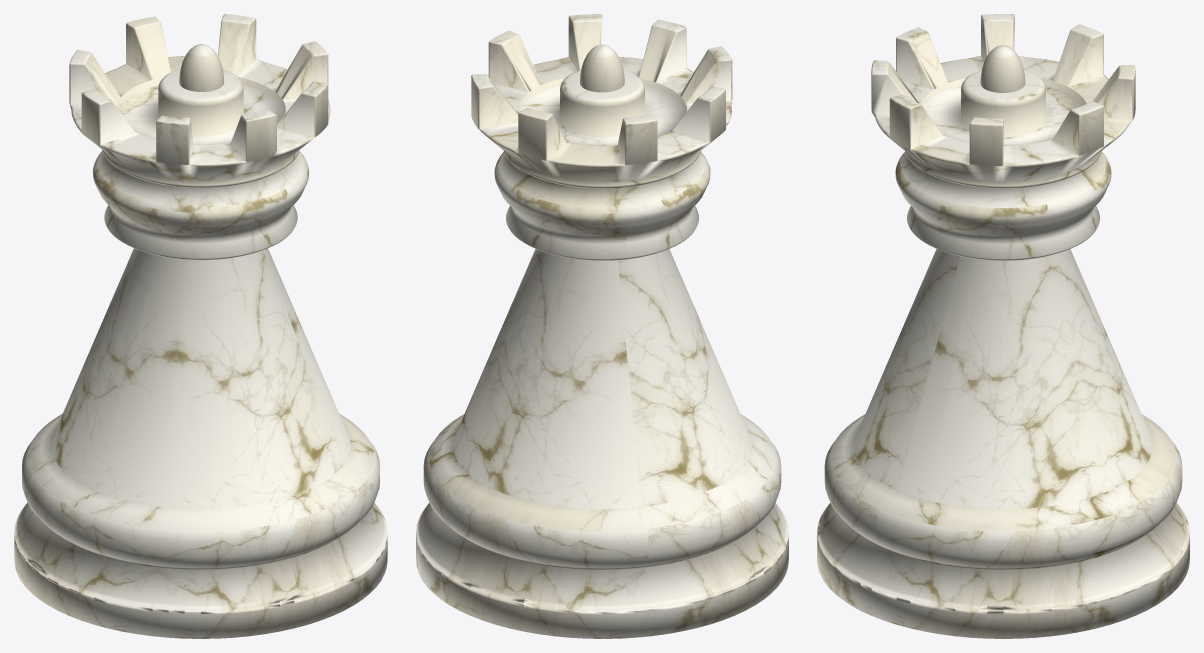
The model's file is outlining.gltf.
3 views of the same model, side by side, from view 1: azimuth 30°, elevation 25°; view 2: azimuth 150°, elevation 25°; view 3: azimuth 270°, elevation 25° (orthographic).
Visible parts, largest first — view 1: QueenWhite; view 2: QueenWhite; view 3: QueenWhite.
Part boxes in pixels (<box>): QueenWhite: <box>14,14,387,638</box>; QueenWhite: <box>416,14,788,638</box>; QueenWhite: <box>817,14,1189,638</box>.
Size of the model in its own units: 0.0218 by 0.0332 by 0.0218.
Materials: 1 (1 with a texture image).
